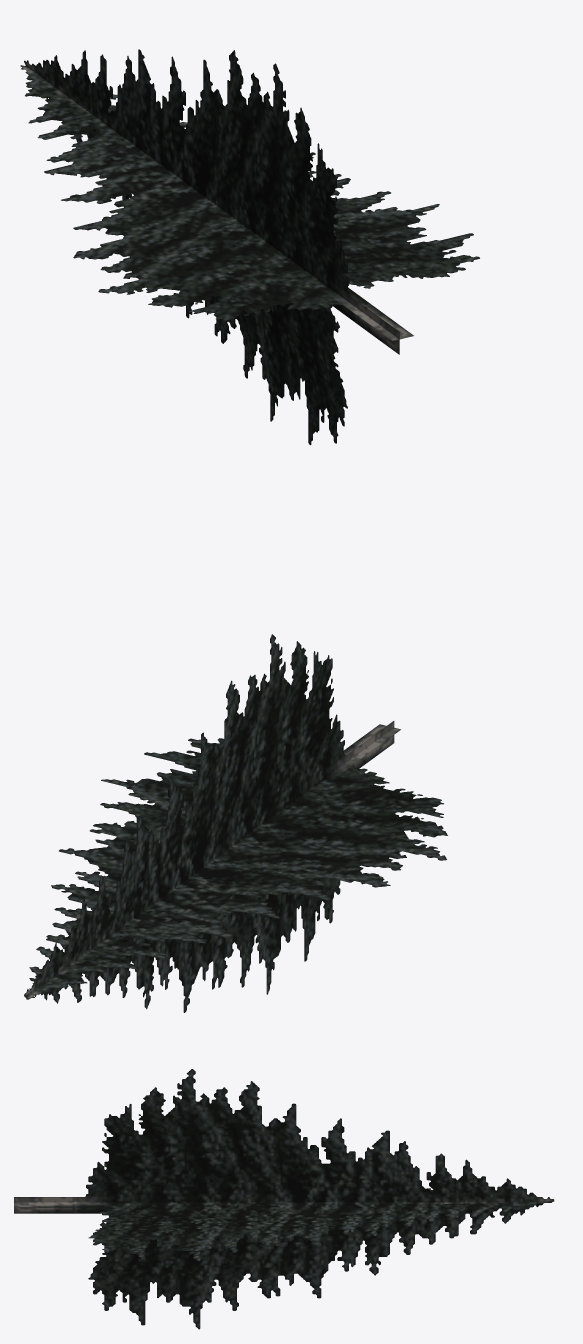
Rendered from SM_EC_Tree_Cross_04.fbx.
3 views of the same model, one above another, from view 1: azimuth 30°, elevation 25°; view 2: azimuth 150°, elevation 25°; view 3: azimuth 270°, elevation 25° (orthographic). The views are drawn at different scales.
Visible parts, largest first — view 1: SM_EC_Tree_Cross_04; view 2: SM_EC_Tree_Cross_04; view 3: SM_EC_Tree_Cross_04.
Boxes of the visible parts, x1=… form: SM_EC_Tree_Cross_04: x1=20, y1=49, x2=479, y2=445; SM_EC_Tree_Cross_04: x1=24, y1=634, x2=447, y2=1012; SM_EC_Tree_Cross_04: x1=14, y1=1069, x2=554, y2=1329.
Size of the model in its own units: 1.97 by 3.79 by 1.97.
